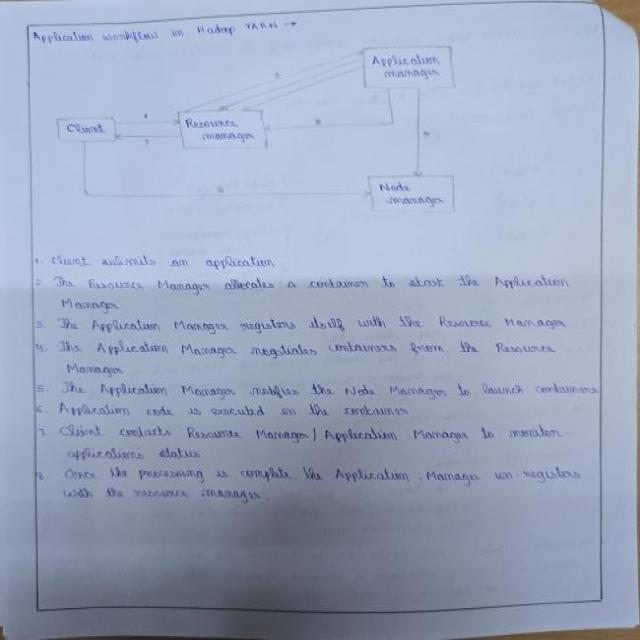Figure Detection - v3 Dataset Version2: (43, 40, 480, 220)
